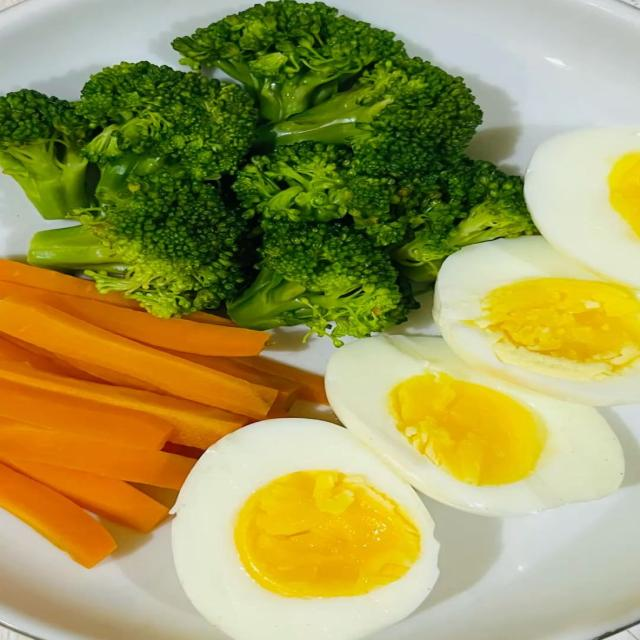broccoli: (28, 170, 246, 317), (173, 0, 403, 121), (259, 56, 481, 176), (77, 62, 257, 200), (227, 221, 416, 345), (394, 158, 537, 281), (234, 143, 394, 230), (0, 90, 91, 219)
carrot: (0, 296, 274, 418), (0, 363, 248, 448), (0, 285, 269, 356), (0, 463, 117, 568), (0, 426, 194, 489), (0, 381, 171, 449), (9, 460, 168, 533), (0, 258, 138, 309), (164, 350, 297, 398), (232, 356, 326, 403)
egg boiled: (172, 419, 438, 639), (326, 336, 624, 516), (434, 236, 639, 406), (524, 125, 639, 289)
